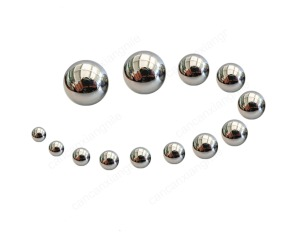ironball: (62, 59, 108, 105), (122, 50, 165, 94), (177, 52, 209, 85), (216, 62, 245, 92), (237, 90, 265, 119), (221, 119, 248, 146), (192, 132, 218, 159), (162, 141, 185, 164), (129, 146, 151, 168), (99, 149, 119, 170), (72, 147, 90, 165), (48, 140, 64, 156), (31, 126, 46, 142)
